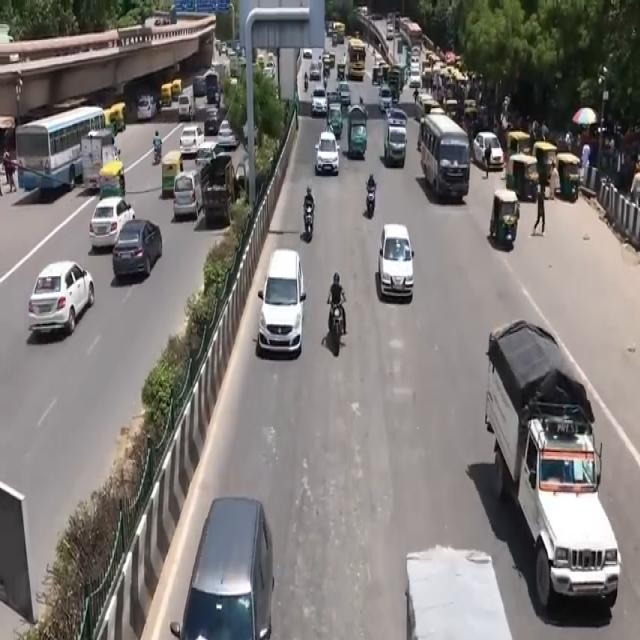BUS: (18, 106, 109, 200), (419, 113, 470, 205), (348, 40, 367, 82)
CMT: (488, 321, 617, 620)
MOTORCYCLE: (330, 300, 347, 357)
